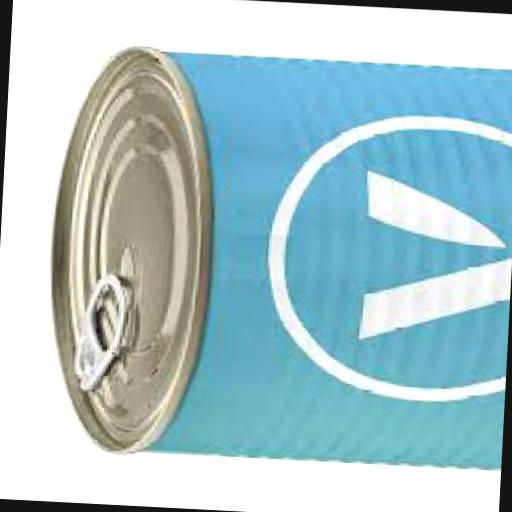metal: (41, 43, 512, 476)
